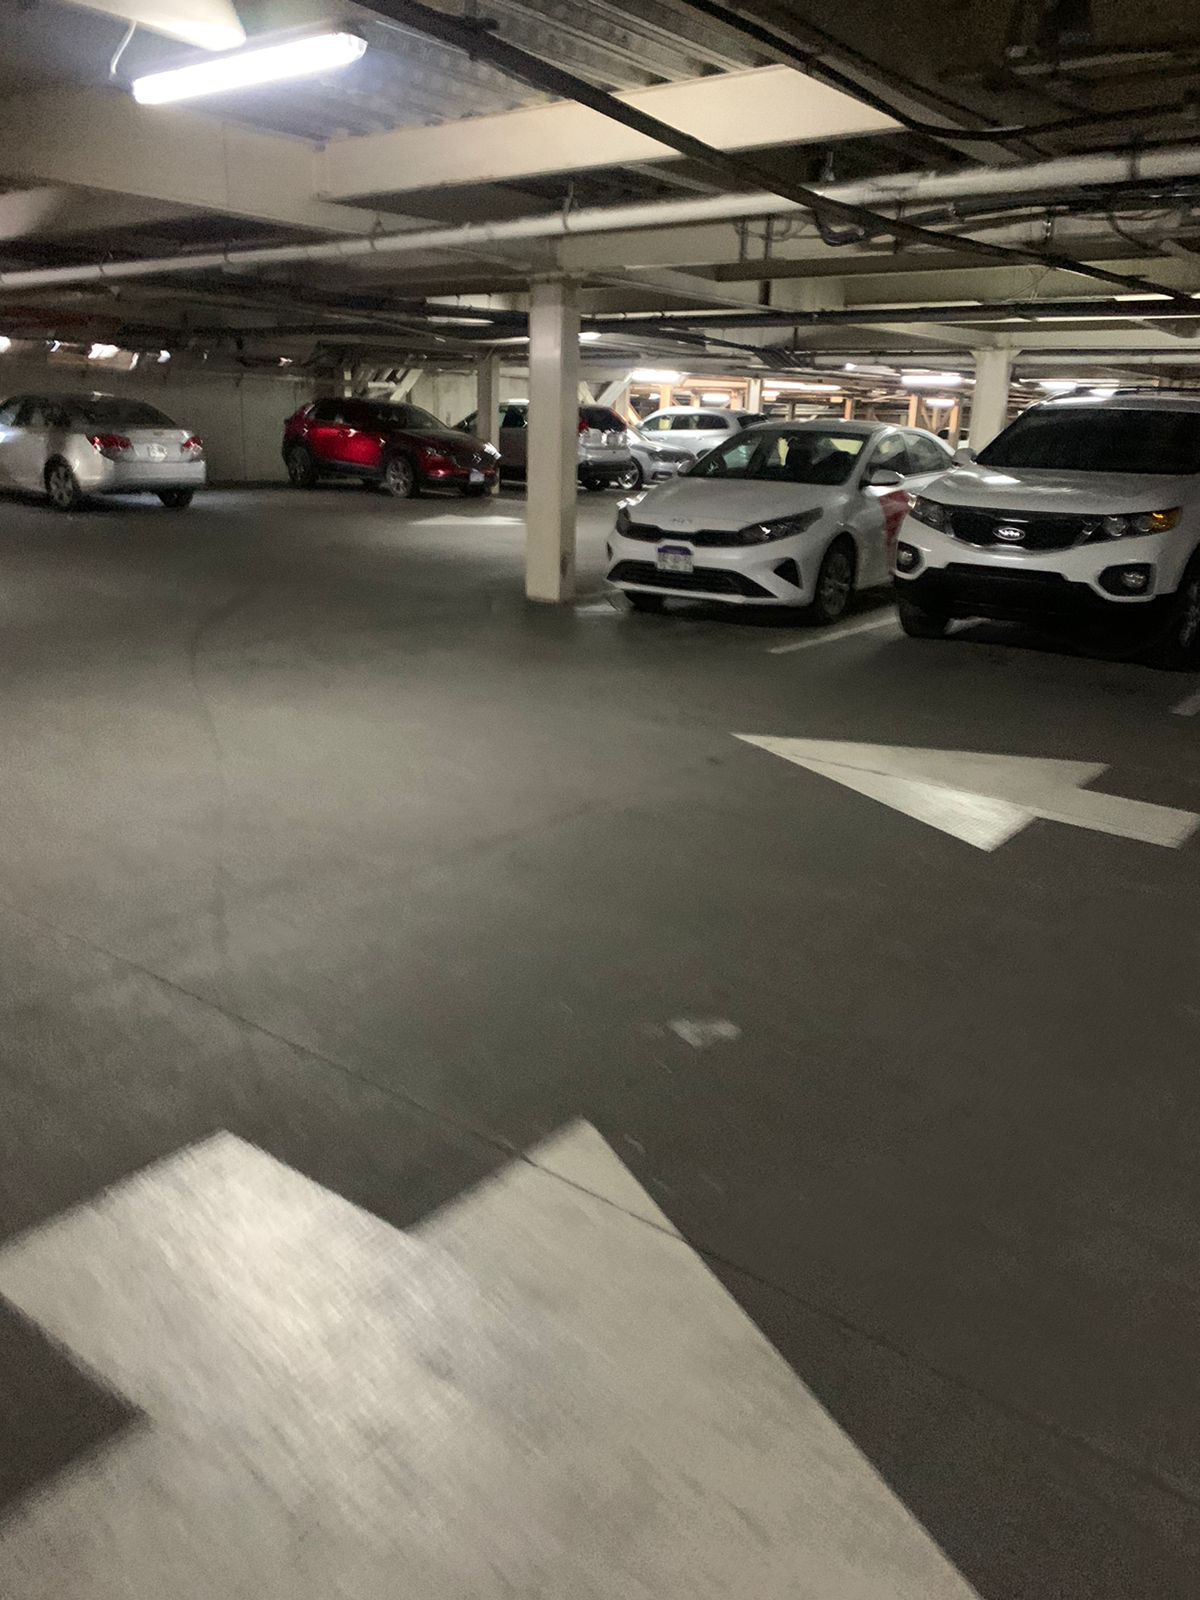Auto: (894, 402, 1200, 653), (603, 425, 982, 621), (1, 394, 207, 519), (282, 397, 504, 501)
